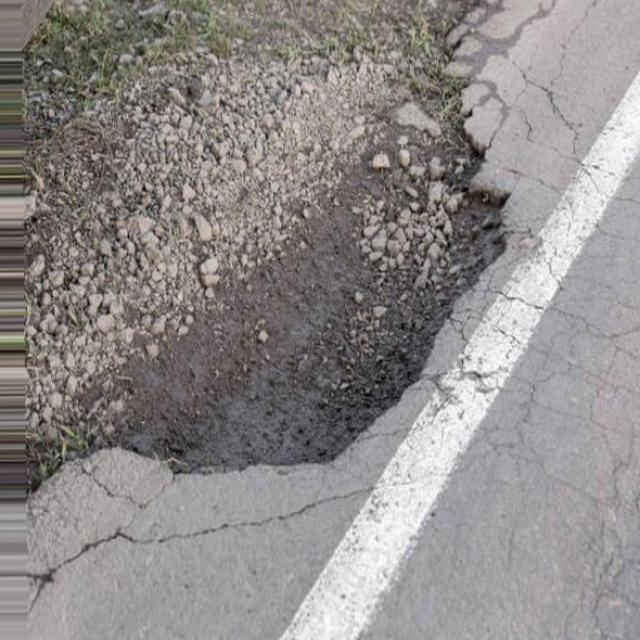Pinggir: (26, 30, 532, 511)
